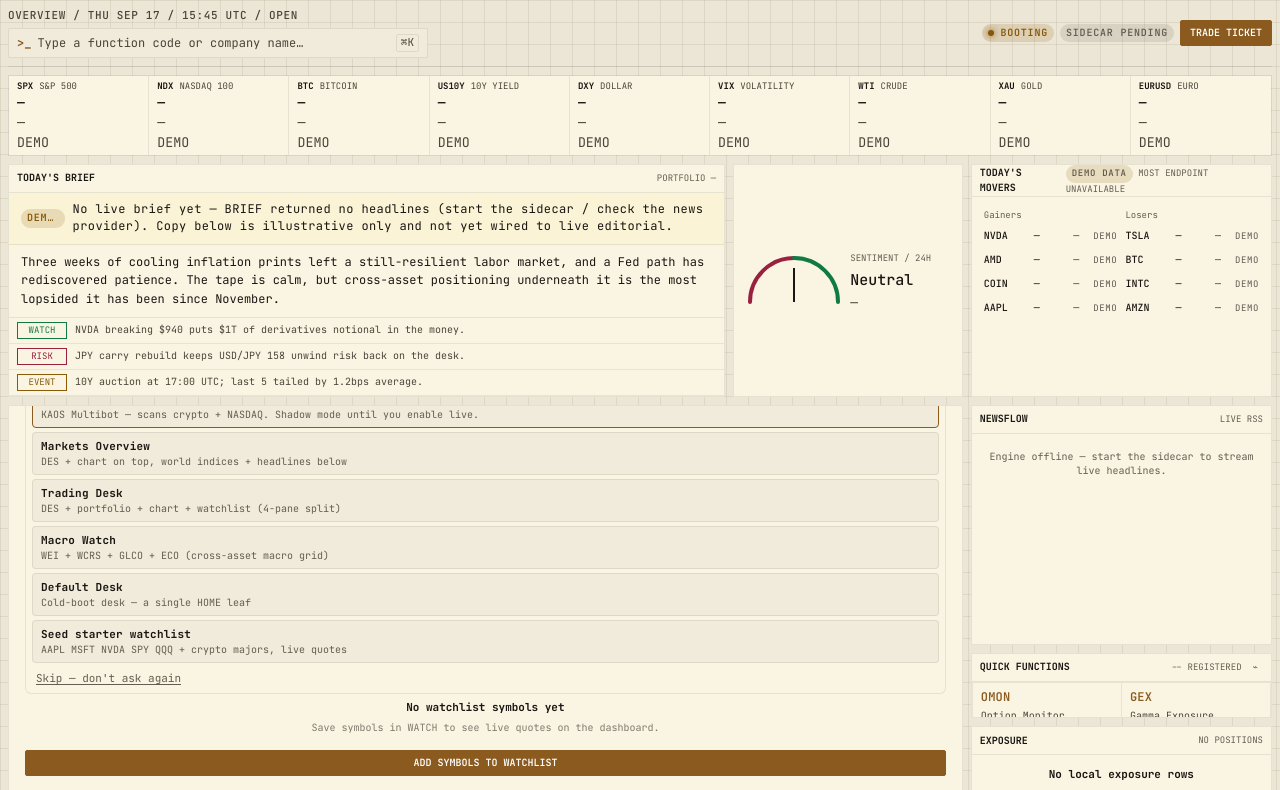
Welcome first-run desk setup (U9) › Skip records the answer without touching the desk
(page scrolled)
Click the button with test id "first-run-skip" at [108, 677], box [32, 668, 185, 686]
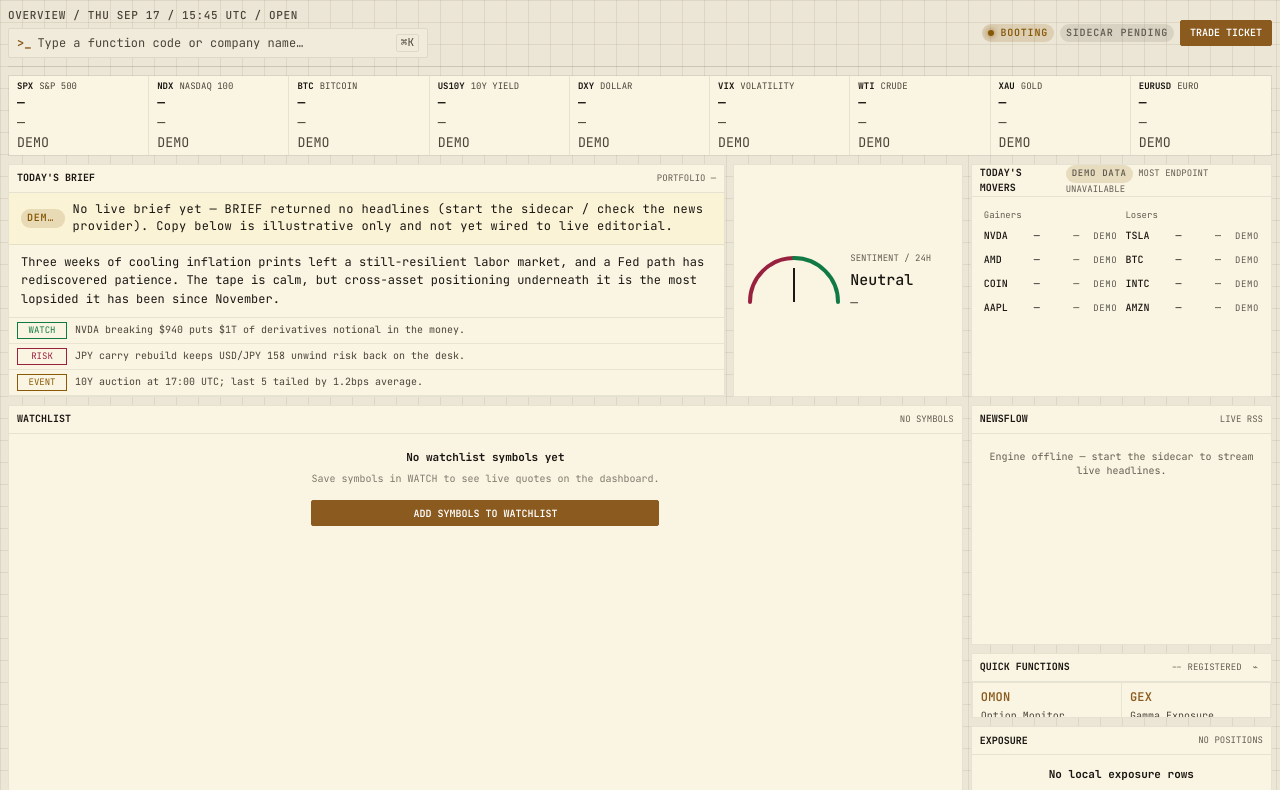
expect the button with test id "watchlist-empty-cta" is shown: met, box [311, 500, 659, 526]
expect the element with test id "first-run-card" is gone: met
